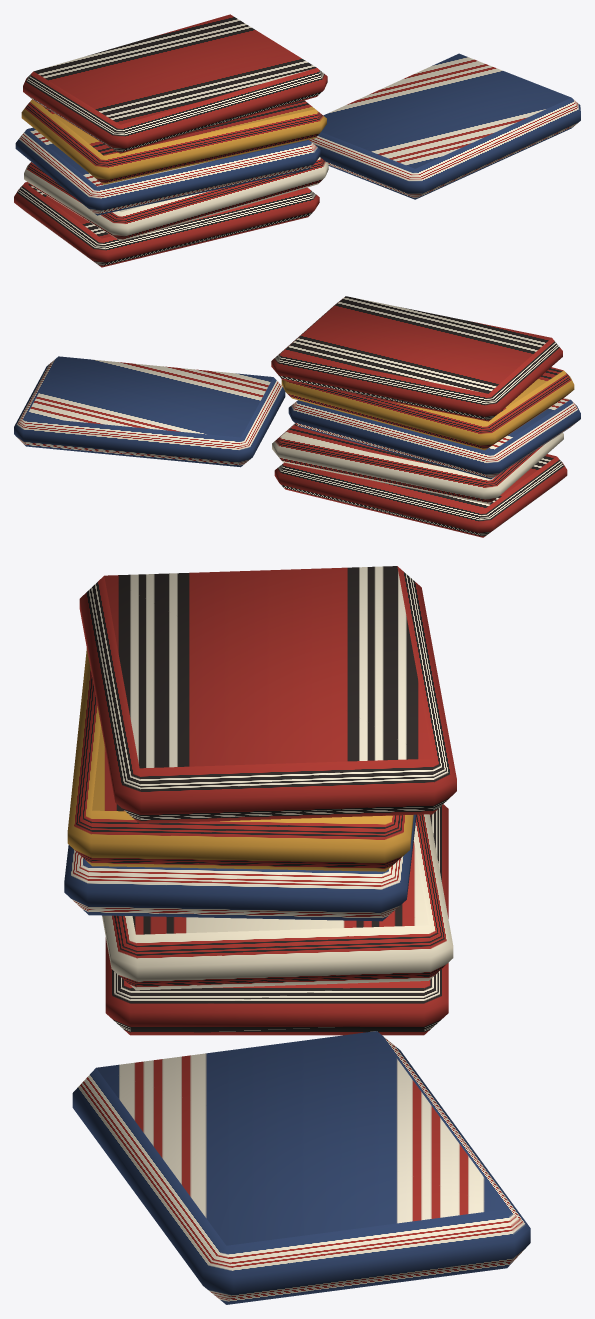
File: market_cloth_stack.glb
The picture shows the model from 3 angles, top to bottom: view 1: azimuth 30°, elevation 25°; view 2: azimuth 150°, elevation 25°; view 3: azimuth 270°, elevation 25°; orthographic projection. The views are drawn at different scales.
Visible parts, largest first — view 1: market_cloth_stack; view 2: market_cloth_stack; view 3: market_cloth_stack.
Boxes of the visible parts, bbox=[...] form: market_cloth_stack: bbox=[14, 14, 580, 267]; market_cloth_stack: bbox=[14, 296, 580, 537]; market_cloth_stack: bbox=[64, 566, 530, 1304].
Bounding box in the file's own units: 1.43 × 0.375 × 0.571.
Materials: 1 (1 with a texture image).
